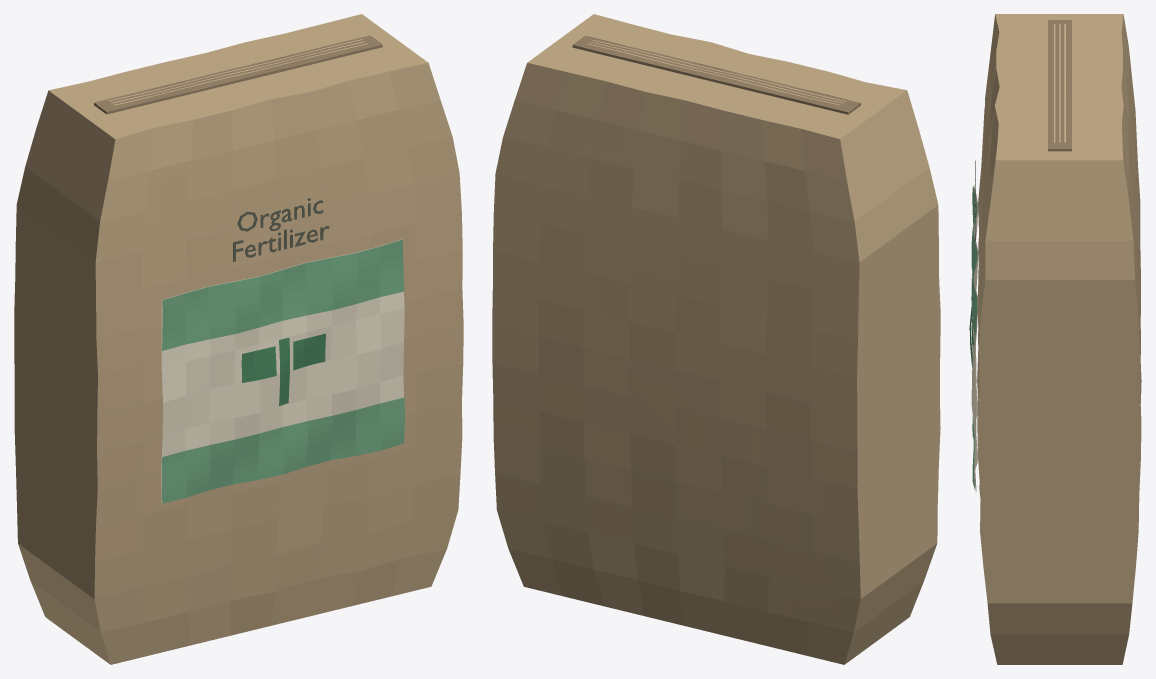
The model's file is fertilizer_bag.glb.
3 renders of one model, left to right at view 1: azimuth 30°, elevation 25°; view 2: azimuth 150°, elevation 25°; view 3: azimuth 270°, elevation 25°, orthographic. The views are drawn at different scales.
Visible parts, largest first — view 1: SM_Prop_OrganicFertilizerBag_01; view 2: SM_Prop_OrganicFertilizerBag_01; view 3: SM_Prop_OrganicFertilizerBag_01.
Part boxes in pixels (x1,y1,x2,y2): SM_Prop_OrganicFertilizerBag_01: (14,14,463,664); SM_Prop_OrganicFertilizerBag_01: (492,14,940,664); SM_Prop_OrganicFertilizerBag_01: (969,14,1141,664).
Size of the model in its own units: 0.3712 by 0.52 by 0.1586.
